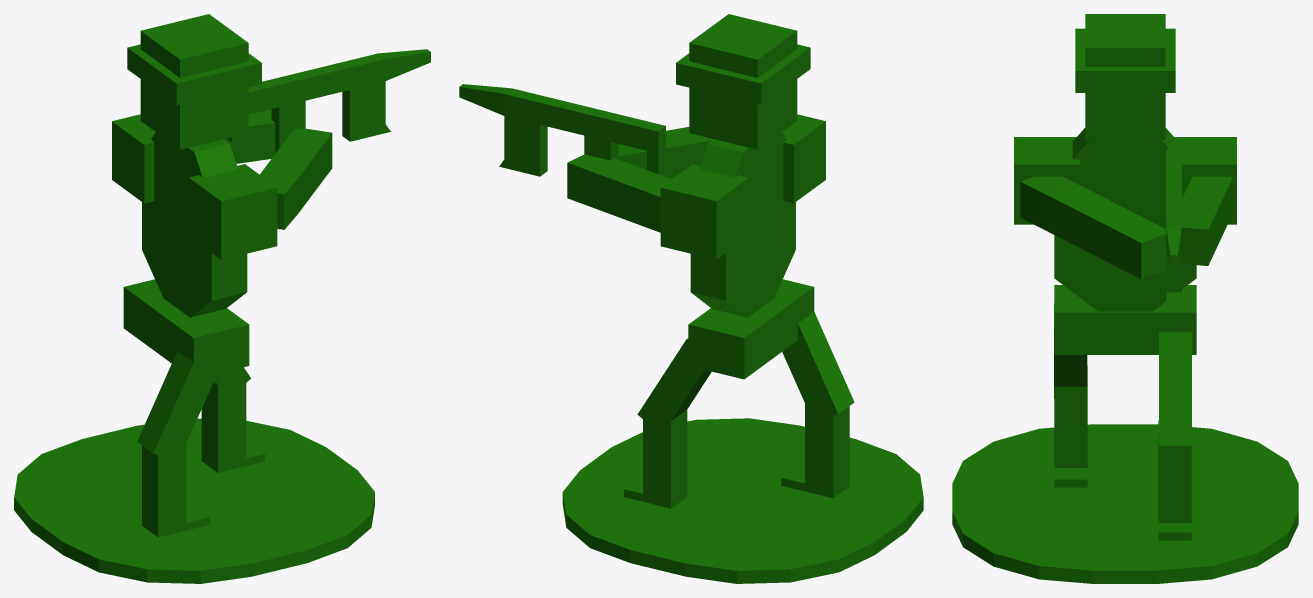
File: toy soldier.fbx
3 views of the same model, side by side, from view 1: azimuth 30°, elevation 25°; view 2: azimuth 150°, elevation 25°; view 3: azimuth 270°, elevation 25° (orthographic).
Visible parts, largest first — view 1: Cube.008; view 2: Cube.008; view 3: Cube.008.
Part boxes in pixels (x1,y1,x2,y2): Cube.008: [14, 14, 430, 583]; Cube.008: [459, 14, 923, 583]; Cube.008: [952, 14, 1298, 583].
Bounding box in the file's own units: 384 × 426 × 279.
